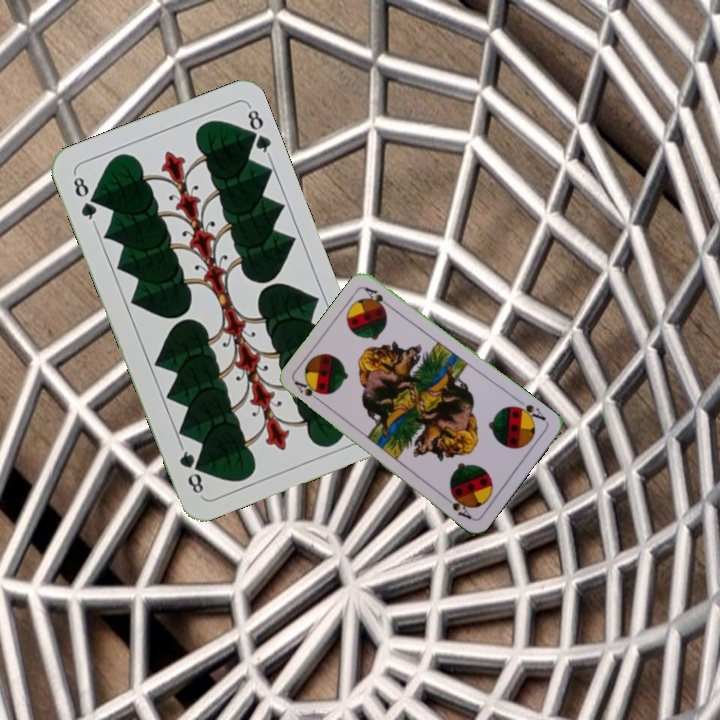G8: (69, 170, 100, 227)
SA: (290, 377, 326, 406), (510, 400, 549, 424)
